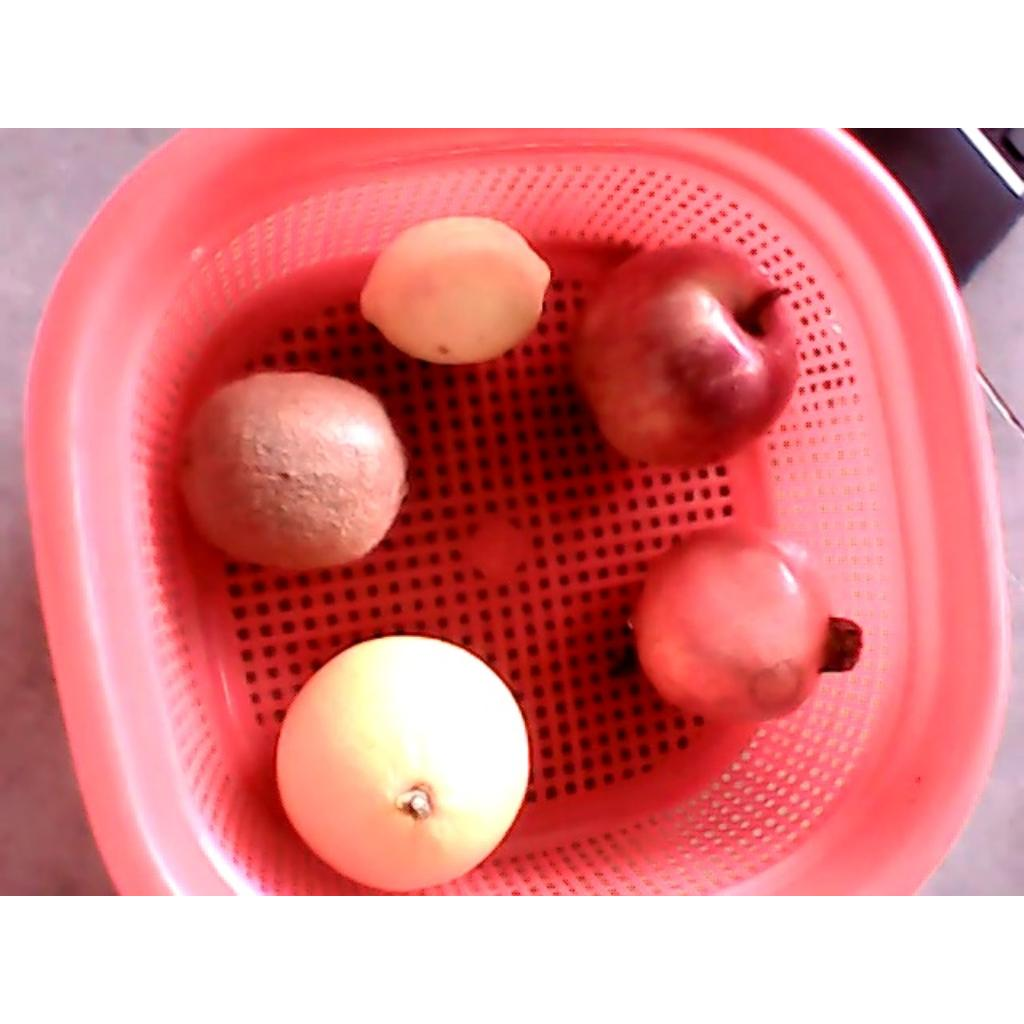apple: (568, 242, 802, 468)
kiwi: (175, 372, 406, 573)
lemon: (359, 216, 551, 365)
orange: (274, 634, 529, 892)
pomegranate: (627, 521, 862, 727)
